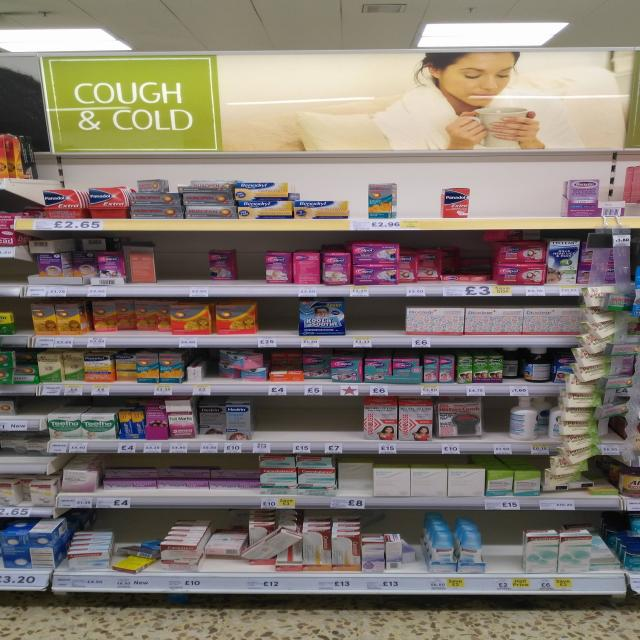void: (160, 237, 205, 295), (250, 394, 292, 454), (486, 526, 520, 592), (401, 166, 436, 229), (526, 168, 562, 228), (326, 398, 363, 453), (259, 300, 298, 348), (495, 170, 526, 230), (293, 396, 325, 453), (468, 168, 495, 230), (371, 298, 405, 347), (404, 523, 428, 590), (344, 297, 371, 348), (239, 243, 264, 294)
